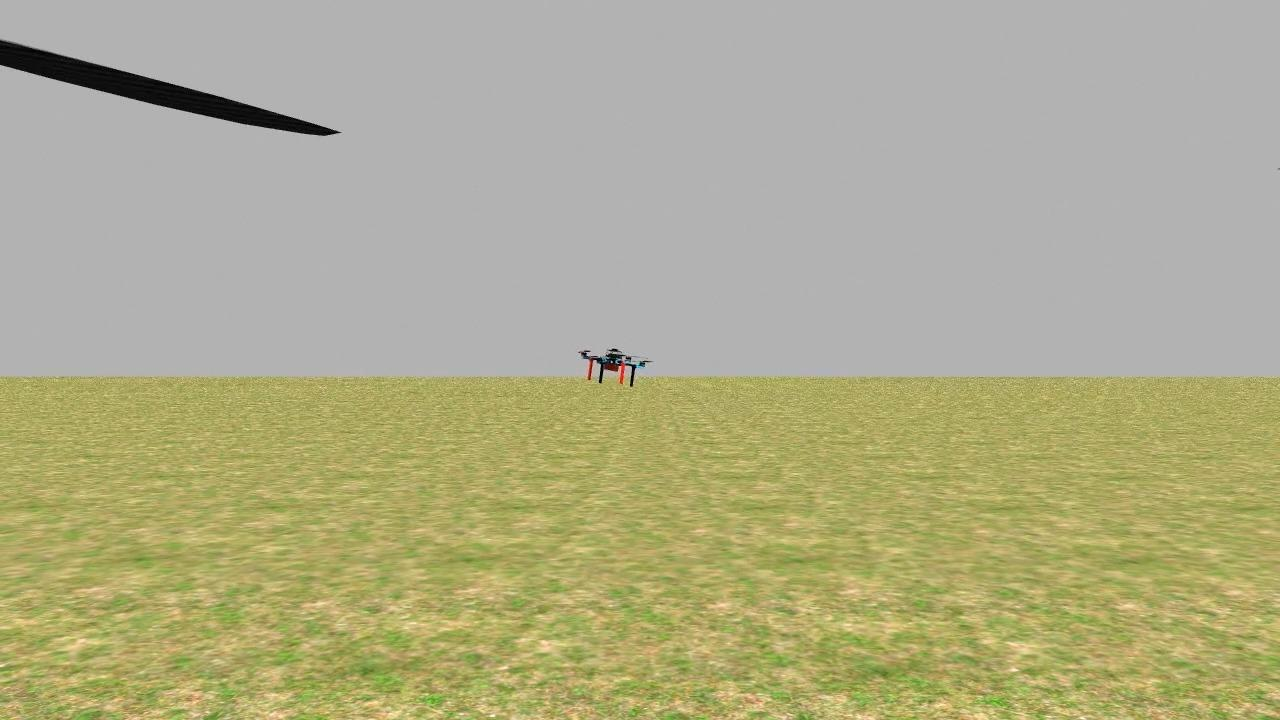UAV: (572, 338, 654, 391)
